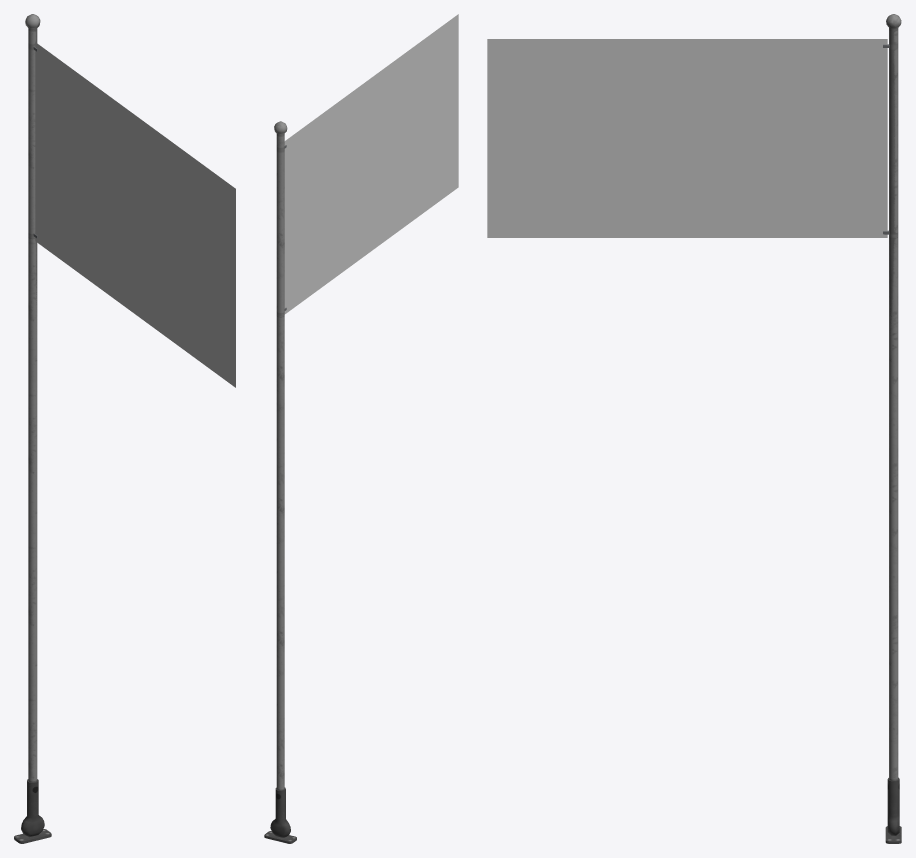
Rendered from MB_Flag_Usa_02.fbx.
3 views of the same model, side by side, from view 1: azimuth 30°, elevation 25°; view 2: azimuth 150°, elevation 25°; view 3: azimuth 270°, elevation 25° (orthographic). The views are drawn at different scales.
Visible parts, largest first — view 1: MB_Flag, MB_Flagpole_LOD0; view 2: MB_Flag, MB_Flagpole_LOD0; view 3: MB_Flag, MB_Flagpole_LOD0.
Part boxes in pixels (box(x1,y1,x2,y2)): MB_Flag: box(35, 42, 235, 387); MB_Flagpole_LOD0: box(14, 14, 51, 843); MB_Flag: box(284, 14, 458, 314); MB_Flagpole_LOD0: box(264, 121, 296, 843); MB_Flag: box(487, 39, 887, 237); MB_Flagpole_LOD0: box(883, 14, 901, 843).
Size of what is drawn, in the model's own units: 13.72 by 336 by 154.
